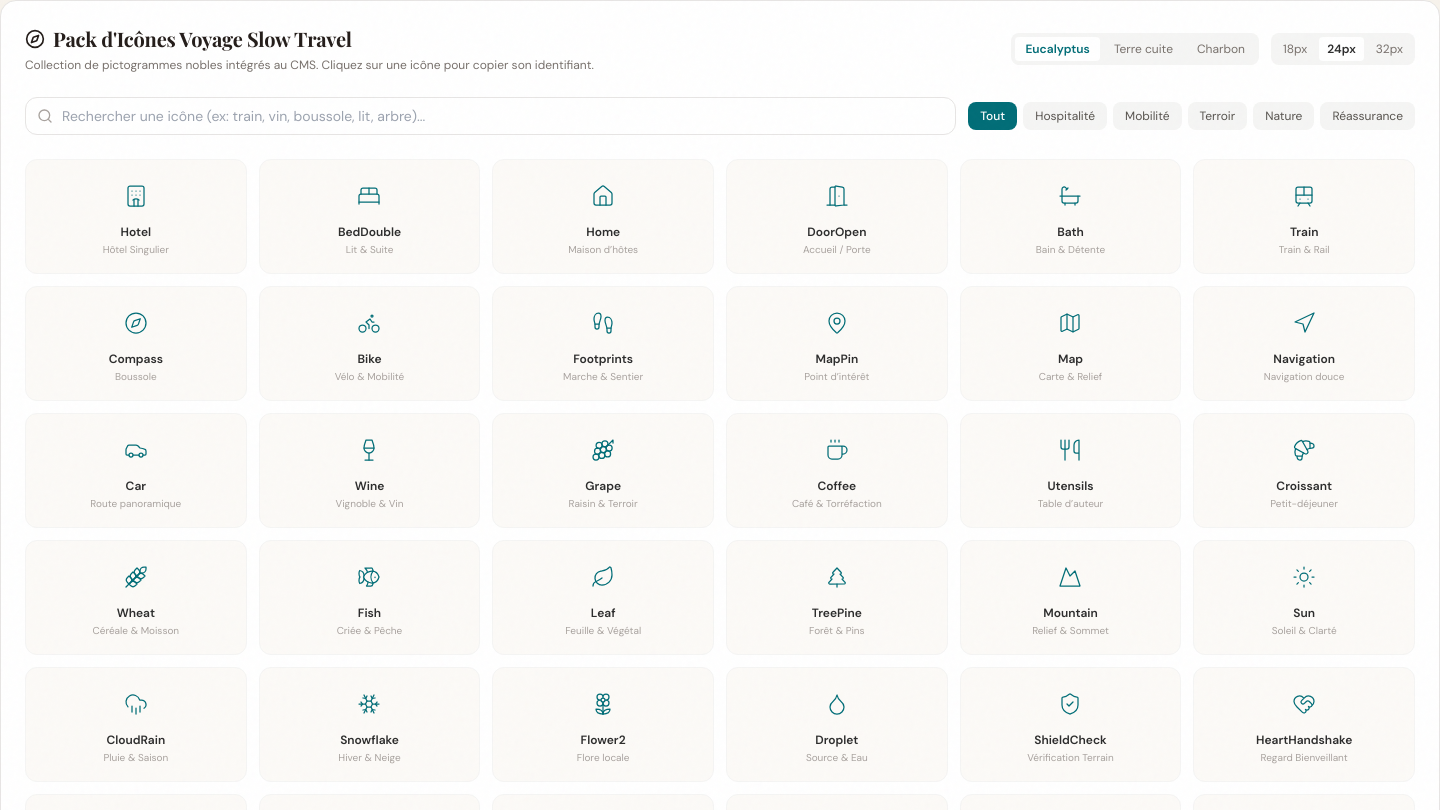
Test: IconPackExplorer › filters icons by search query
Step 1. Replace the text in the field with placeholder "Rechercher une icône" with "train" → (491, 116), box [25,97,956,135]
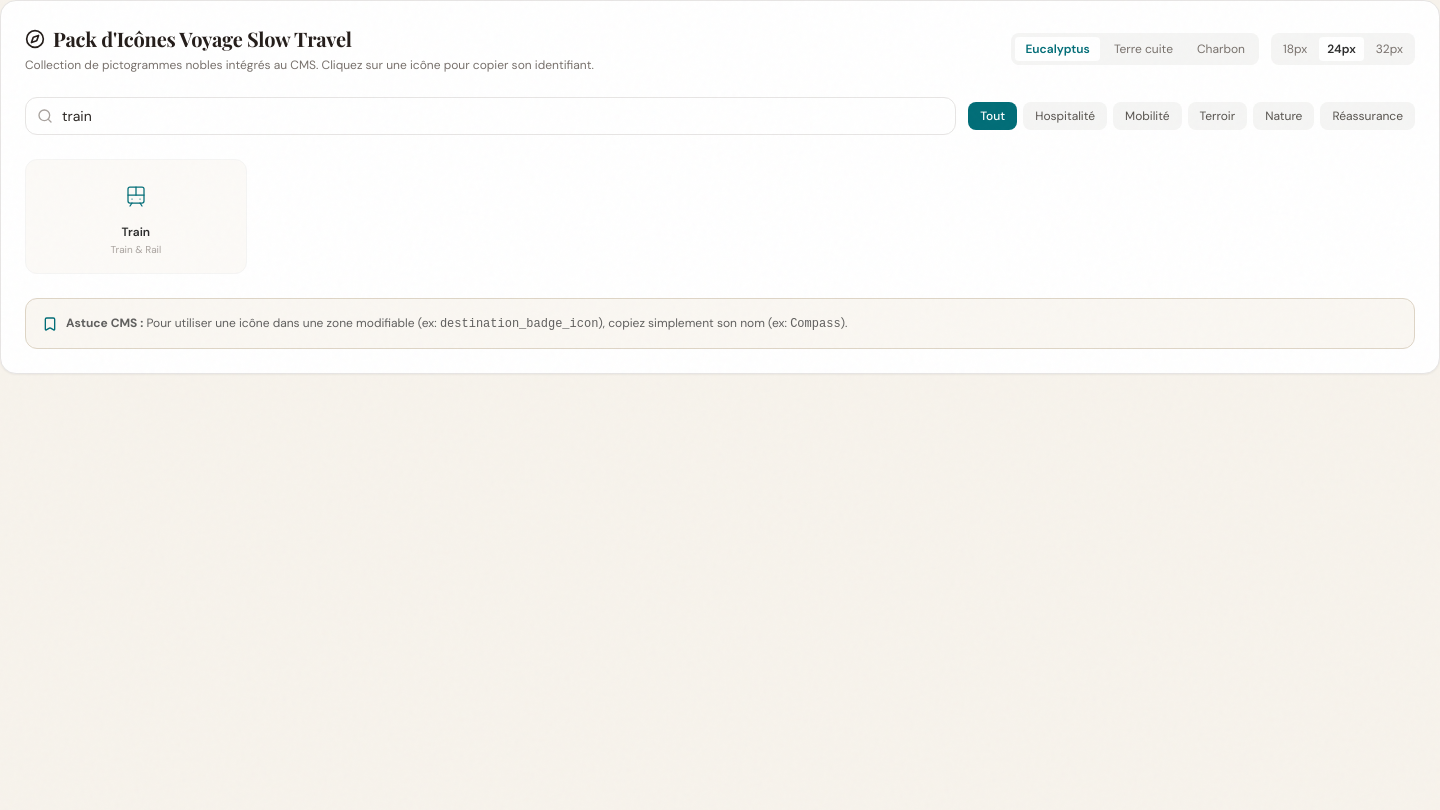
Check: the text "Train" is shown, box [122,224,150,240]
Check: the text "BedDouble" is gone
